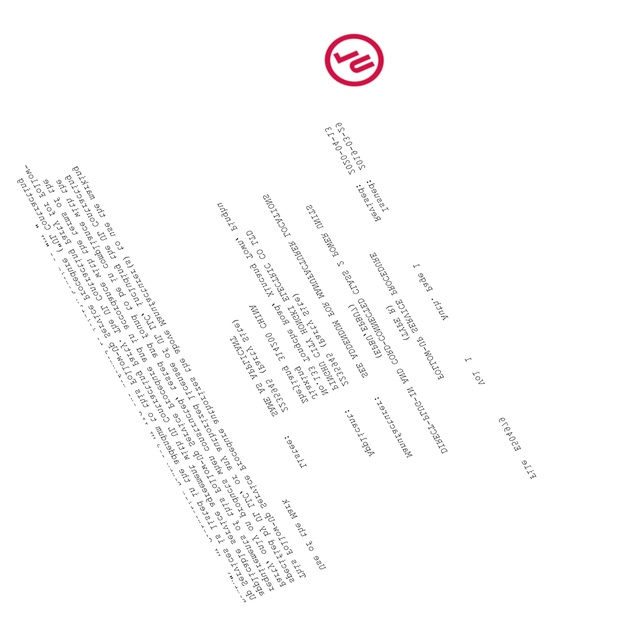ul: (325, 32, 385, 88)
